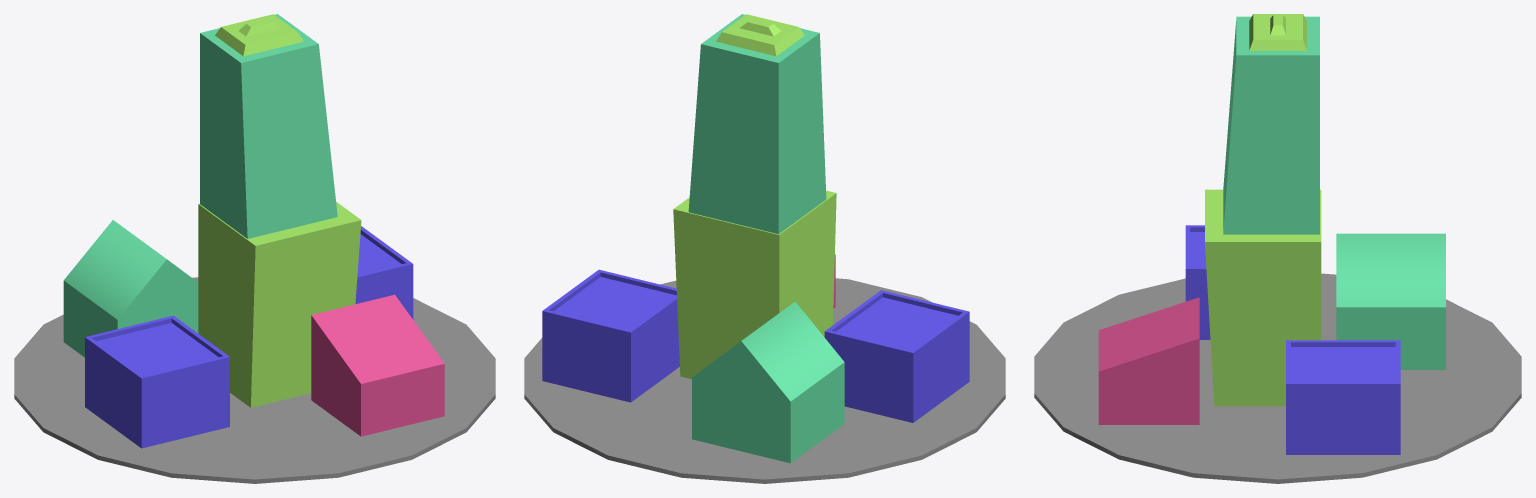
The model's file is CityPocalypse.FBX.
The picture shows the model from 3 angles, left to right: view 1: azimuth 30°, elevation 25°; view 2: azimuth 150°, elevation 25°; view 3: azimuth 270°, elevation 25°; orthographic projection.
Visible parts, largest first — view 1: Cylinder002; view 2: Cylinder002; view 3: Cylinder002.
Boxes of the visible parts, <box> form: Cylinder002: <box>14,14,495,483</box>; Cylinder002: <box>524,14,1005,483</box>; Cylinder002: <box>1034,14,1521,483</box>.
Size of the model in its own units: 1000 by 985 by 805.
